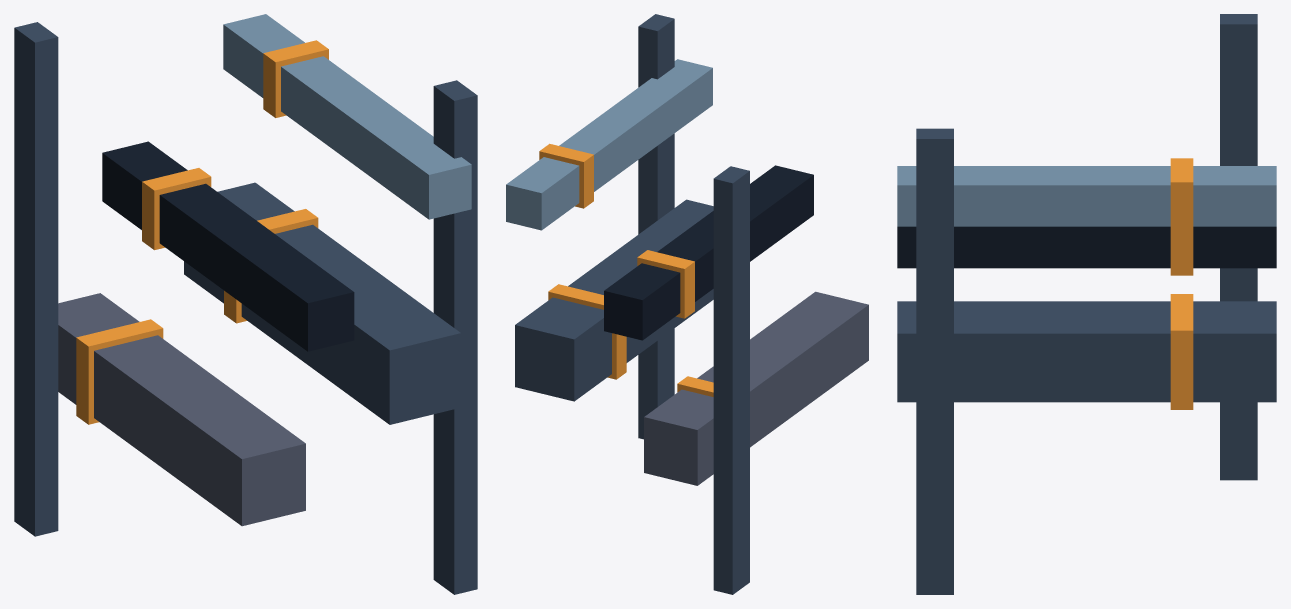
The model's file is env_pipe_bundle.obj.
3 renders of one model, left to right at view 1: azimuth 30°, elevation 25°; view 2: azimuth 150°, elevation 25°; view 3: azimuth 270°, elevation 25°, orthographic. The views are drawn at different scales.
Bounding box in the file's own units: 1.56 × 2.65 × 2.
